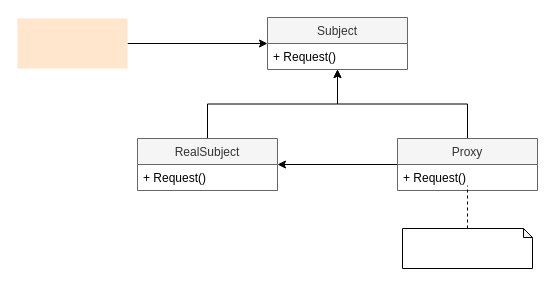
This 555x286 diagram has some shape labels left out. The centre of each missing label's shape, as x and y in pixels:
Client: pixel 72 43
realSubject.Request(): pixel 467 248
